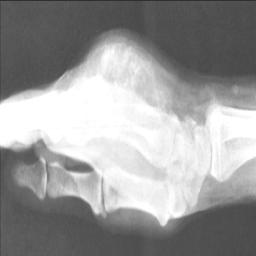cancer: (53, 44, 185, 125)
